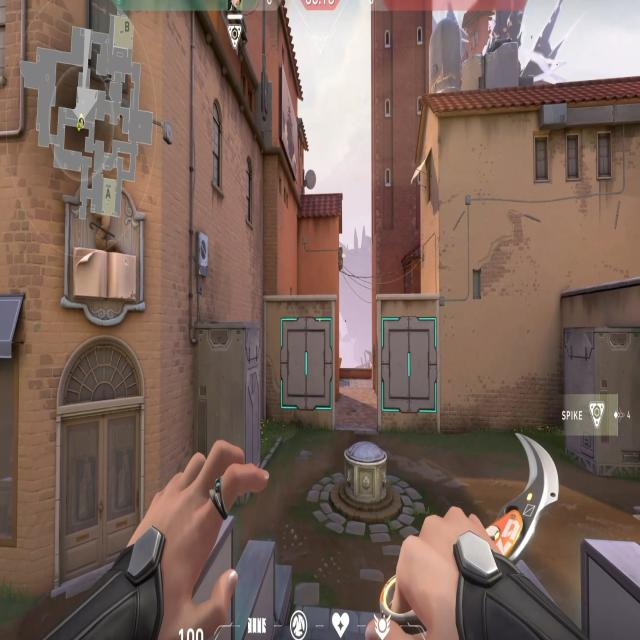Mid_Wall: (379, 315, 438, 419), (281, 315, 333, 413)
